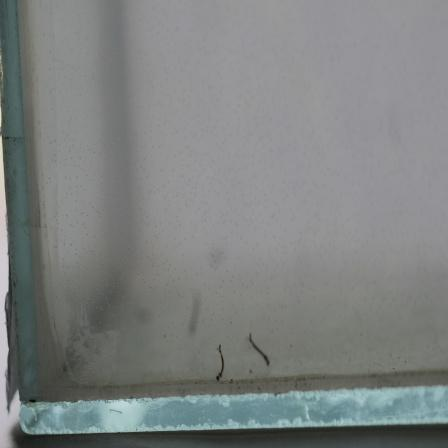Jentik-Nyamuk: (244, 329, 273, 373), (210, 341, 231, 385)
